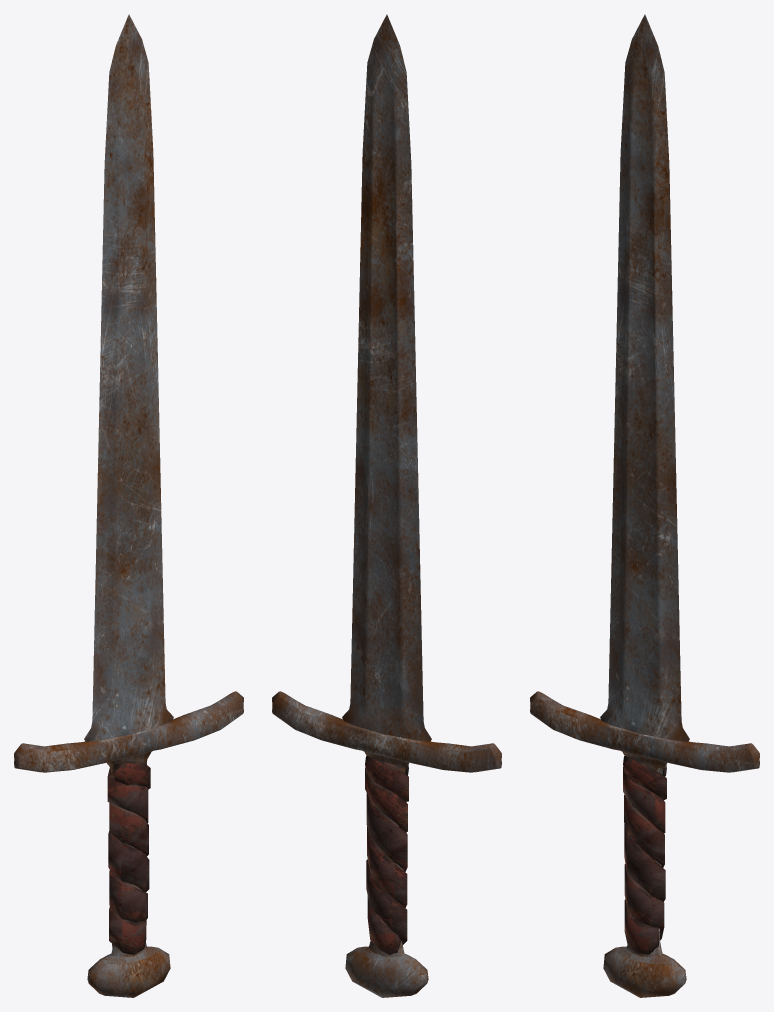
Rendered from viking_sword.glb.
The picture shows the model from 3 angles, left to right: view 1: azimuth 30°, elevation 25°; view 2: azimuth 150°, elevation 25°; view 3: azimuth 330°, elevation 25°; orthographic projection.
Parts seen in each view (by area): view 1: Sword; view 2: Sword; view 3: Sword.
Part boxes in pixels (<box>): Sword: <box>14,14,243,997</box>; Sword: <box>272,14,501,997</box>; Sword: <box>530,14,759,997</box>.
Size of the model in its own units: 53.35 by 218 by 8.28.
Materials: 1 (1 with a texture image).
